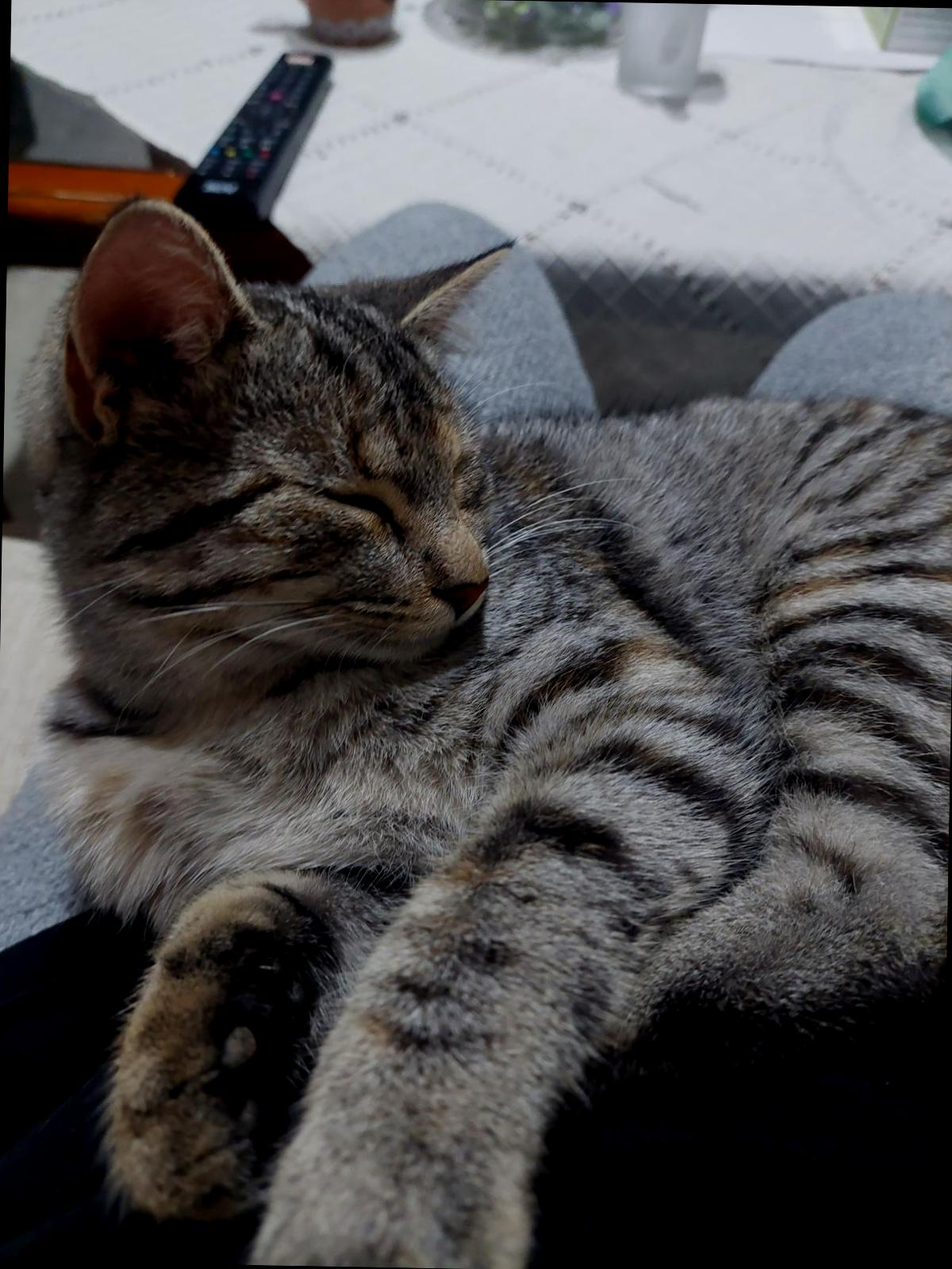macka: (33, 194, 952, 1269)
